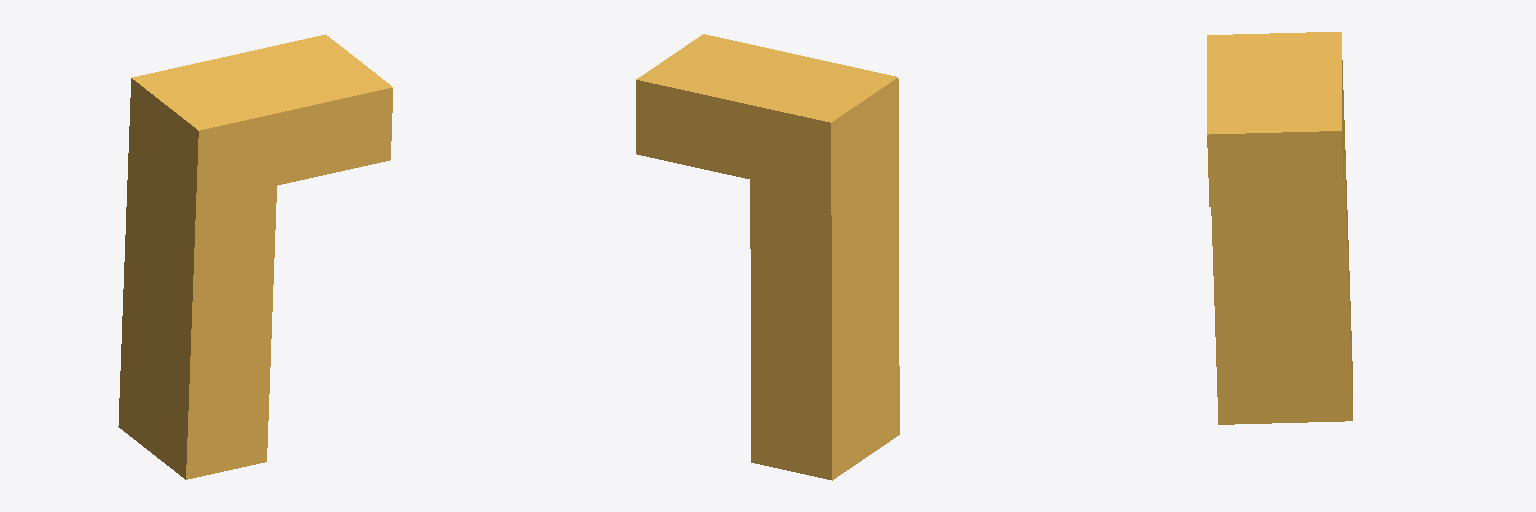
File: cubicles_robot_blender.obj
3 views of the same model, side by side, from view 1: azimuth 30°, elevation 25°; view 2: azimuth 150°, elevation 25°; view 3: azimuth 270°, elevation 25° (orthographic).
Parts seen in each view (by area): view 1: instance_0_ID3.002; view 2: instance_0_ID3.002; view 3: instance_0_ID3.002.
Boxes of the visible parts, <box> form: instance_0_ID3.002: <box>118,34,392,479</box>; instance_0_ID3.002: <box>636,34,899,480</box>; instance_0_ID3.002: <box>1207,32,1352,424</box>.
Bounding box in the file's own units: 46.68 × 78.89 × 29.33.